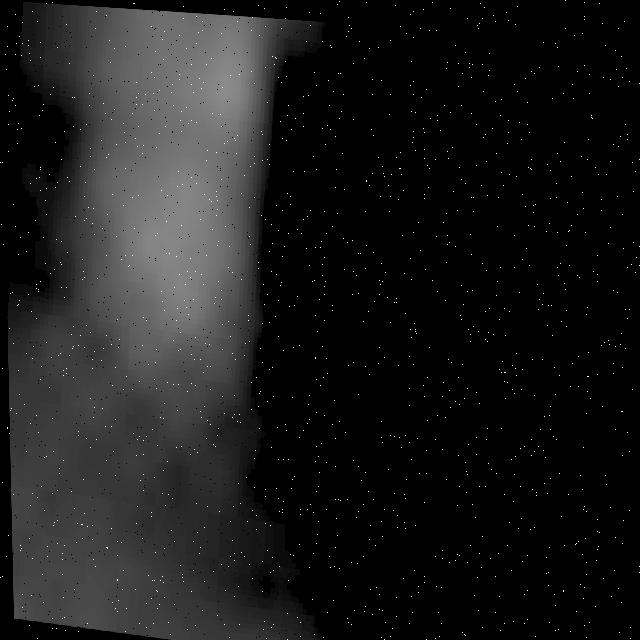person: (26, 2, 280, 440)
